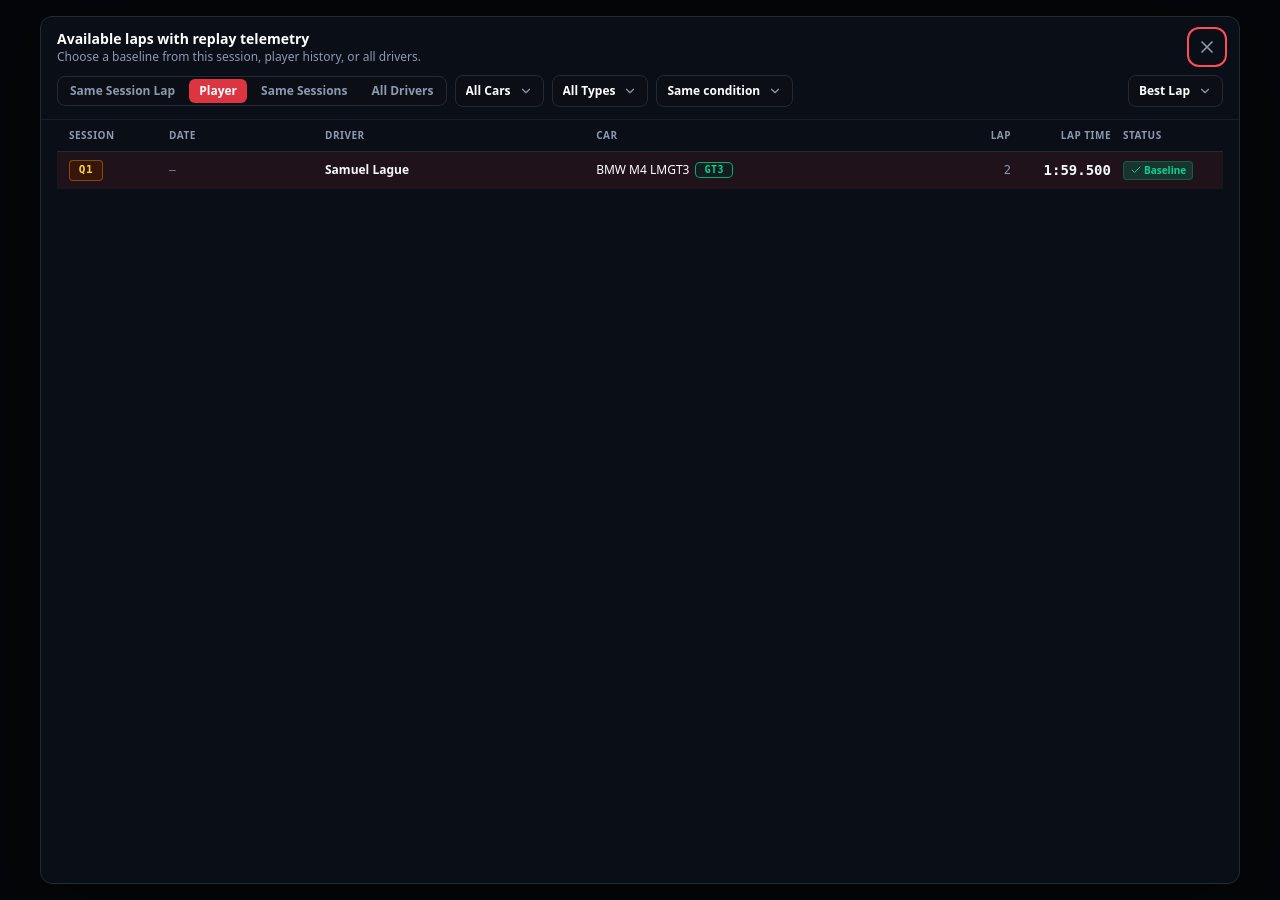
Test case: ReplayCompareLapPicker › lists the car types of the whole scope, not only those on the page
Click the dropdown named "Filter by car" at (499, 91), box [454,75,544,107]
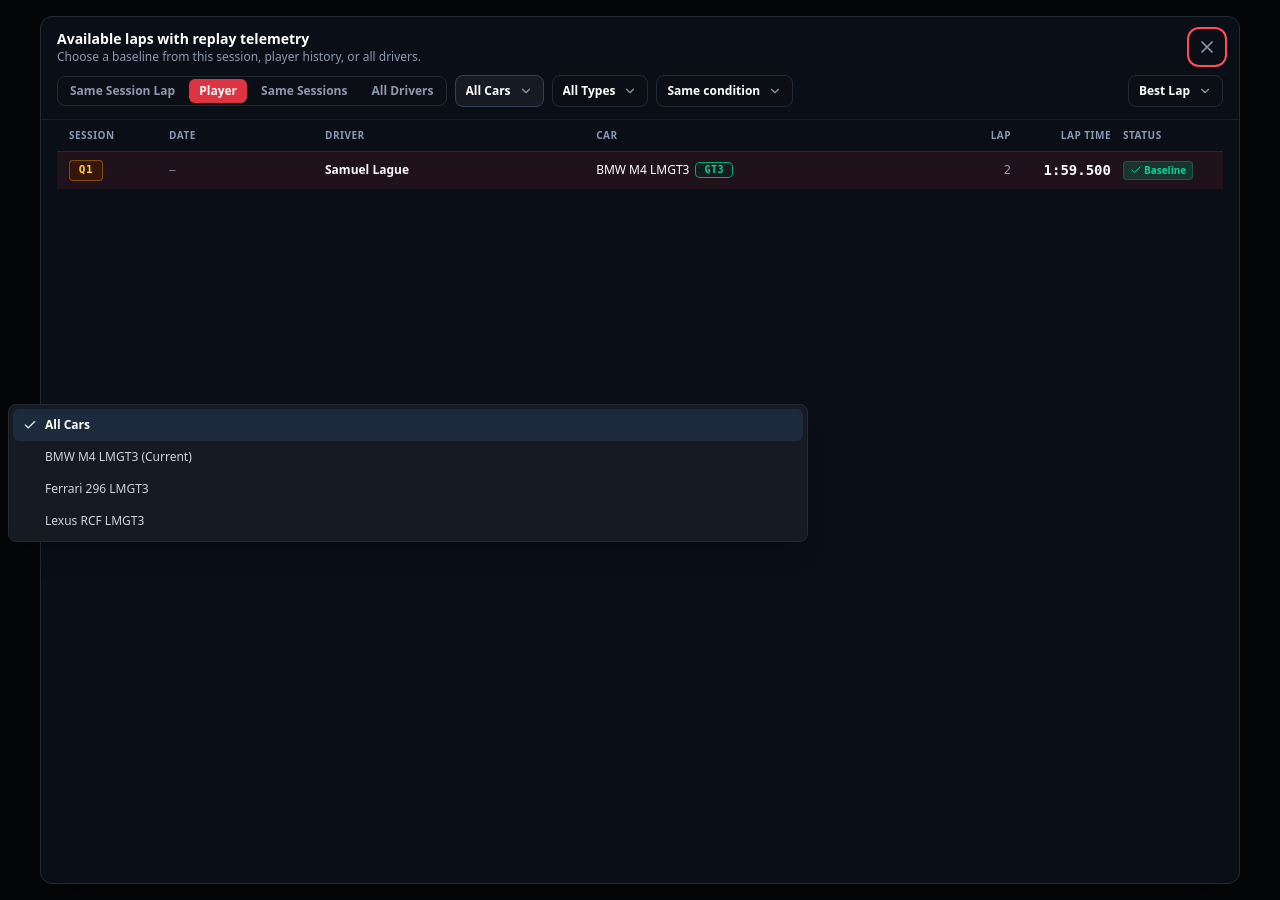
Result: the option "Lexus RCF LMGT3" is shown at [45,512,144,529]
Result: the option "Ferrari 296 LMGT3" is shown at [45,480,149,497]
Result: the option "BMW M4 LMGT3 (Current)" is shown at [45,448,192,465]
